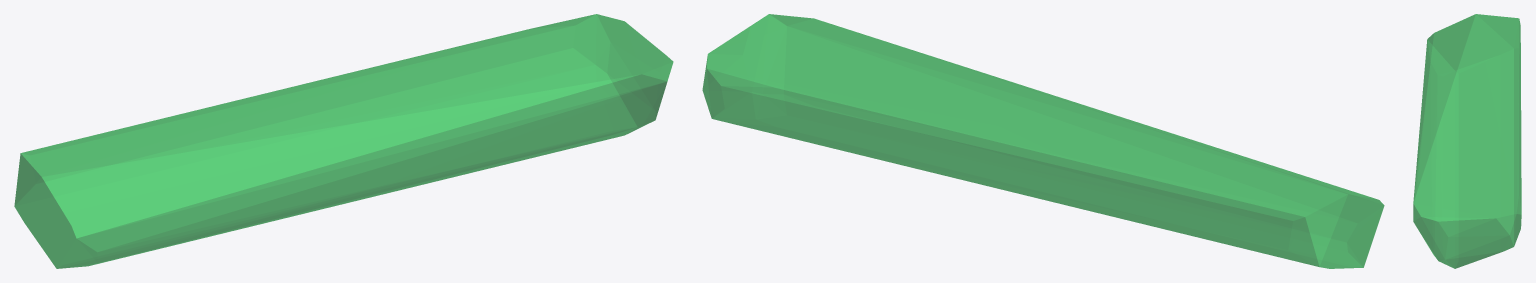
3 renders of one model, left to right at view 1: azimuth 30°, elevation 25°; view 2: azimuth 150°, elevation 25°; view 3: azimuth 270°, elevation 25°, orthographic. The views are drawn at different scales.
Parts seen in each view (by area): view 1: Shape_IndexedFaceSet.001_Shape_IndexedFaceSet.406; view 2: Shape_IndexedFaceSet.001_Shape_IndexedFaceSet.406; view 3: Shape_IndexedFaceSet.001_Shape_IndexedFaceSet.406.
Boxes of the visible parts, x1=… form: Shape_IndexedFaceSet.001_Shape_IndexedFaceSet.406: x1=14, y1=14, x2=673, y2=268; Shape_IndexedFaceSet.001_Shape_IndexedFaceSet.406: x1=702, y1=14, x2=1384, y2=268; Shape_IndexedFaceSet.001_Shape_IndexedFaceSet.406: x1=1413, y1=14, x2=1521, y2=268.
Size of the model in its own units: 0.5046 by 0.0653 by 0.1132.
